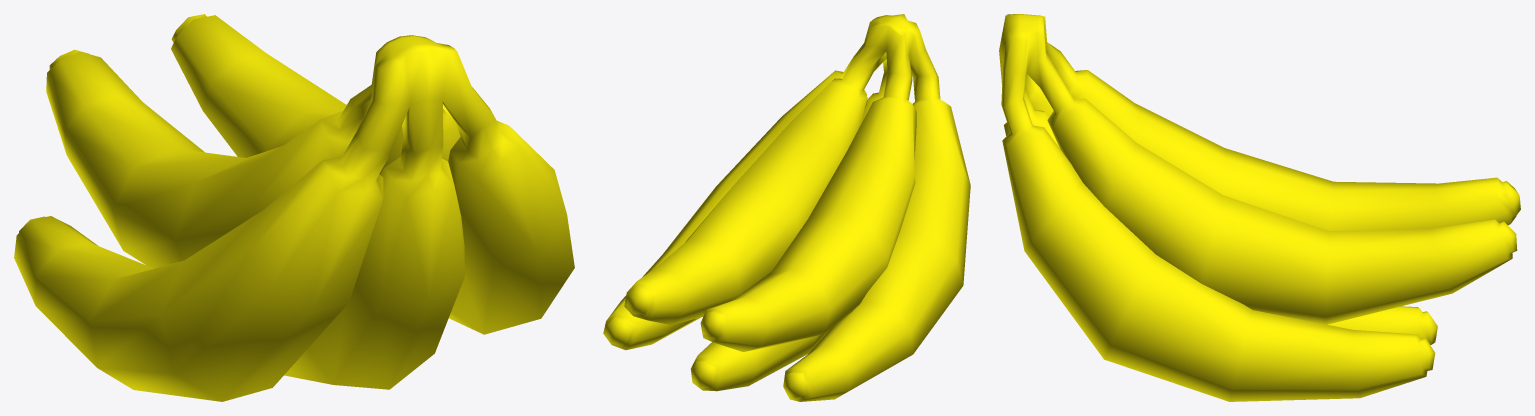
The model's file is SM_Banana_Bundle.fbx.
The picture shows the model from 3 angles, left to right: view 1: azimuth 30°, elevation 25°; view 2: azimuth 150°, elevation 25°; view 3: azimuth 270°, elevation 25°; orthographic projection. The views are drawn at different scales.
Visible parts, largest first — view 1: SM_Momki_001.001; view 2: SM_Momki_001.001; view 3: SM_Momki_001.001.
Part boxes in pixels (x1,y1,x2,y2): SM_Momki_001.001: [14, 14, 574, 401]; SM_Momki_001.001: [603, 14, 970, 401]; SM_Momki_001.001: [999, 14, 1520, 401].
Bounding box in the file's own units: 19.5 × 28.09 × 20.22.
